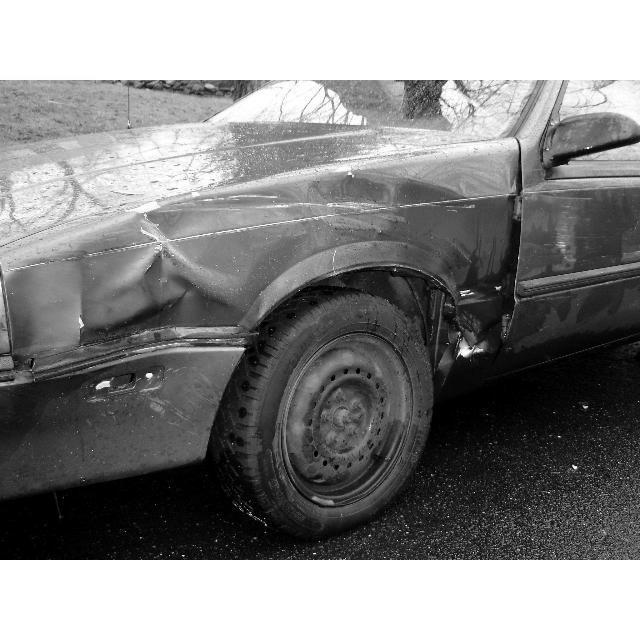fender-dent: (11, 157, 525, 450)
